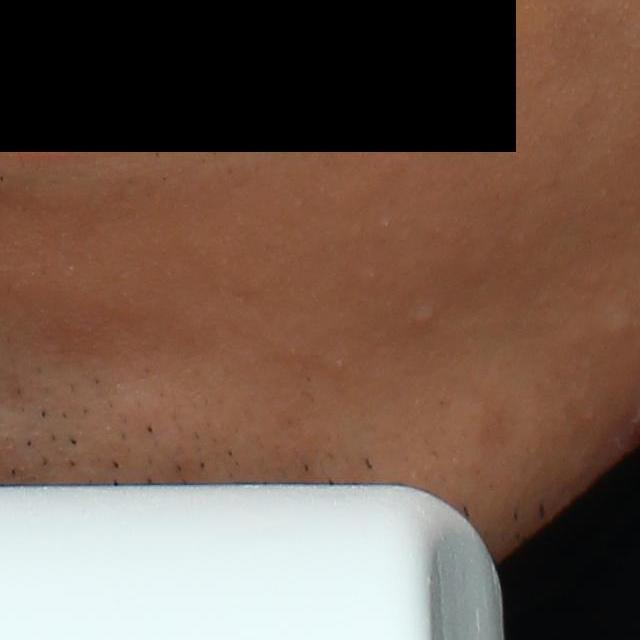comedo: (411, 298, 440, 330)
